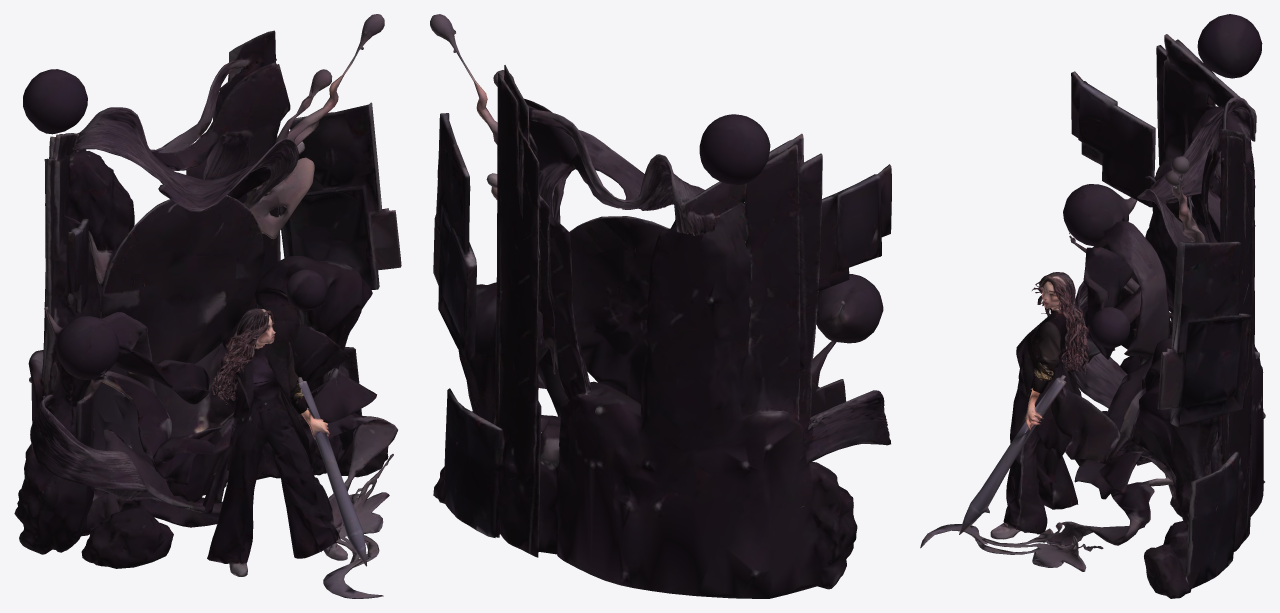
The model's file is elif-heykel-mobil.glb.
The picture shows the model from 3 angles, left to right: view 1: azimuth 30°, elevation 25°; view 2: azimuth 150°, elevation 25°; view 3: azimuth 270°, elevation 25°; orthographic projection. The views are drawn at different scales.
Size of the model in its own units: 1.7 by 1.9 by 1.32.
1 material, 1 textured.
